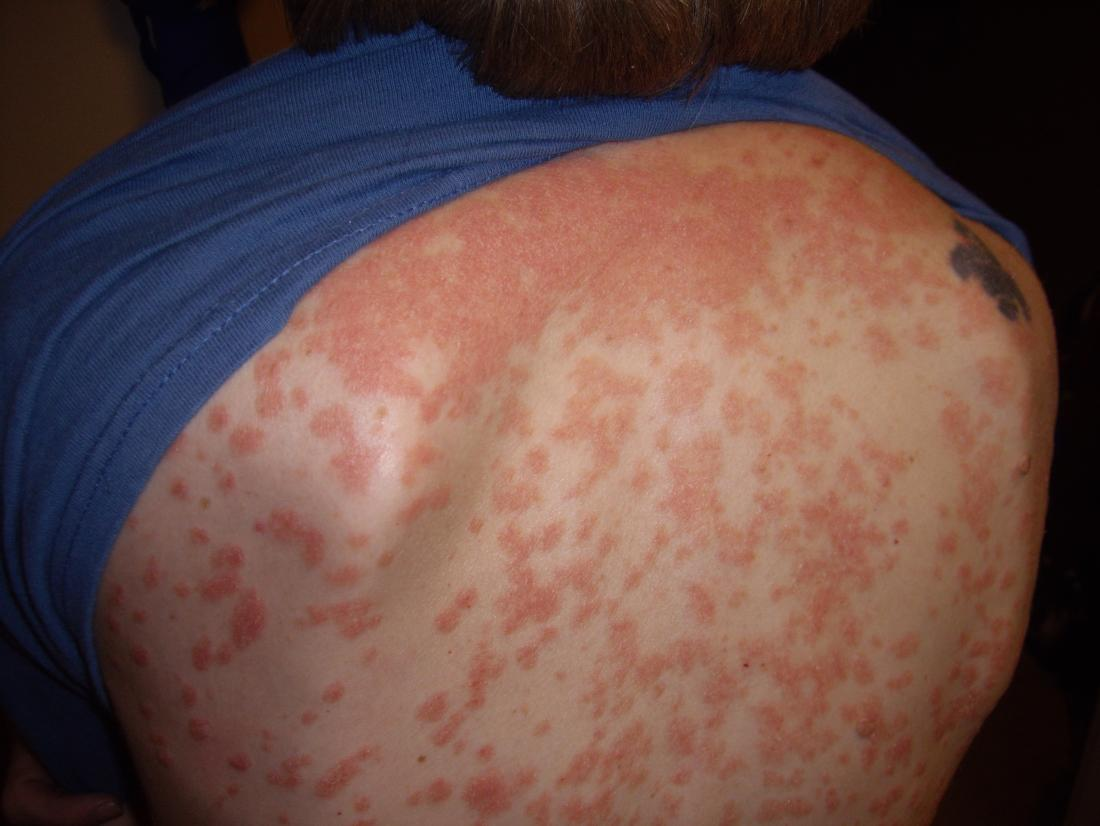Psoriasis: (434, 245, 869, 772)
